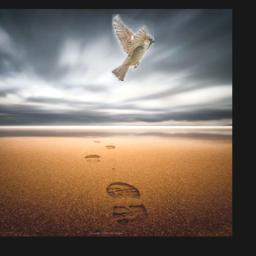Sparrow: (113, 15, 155, 82)
